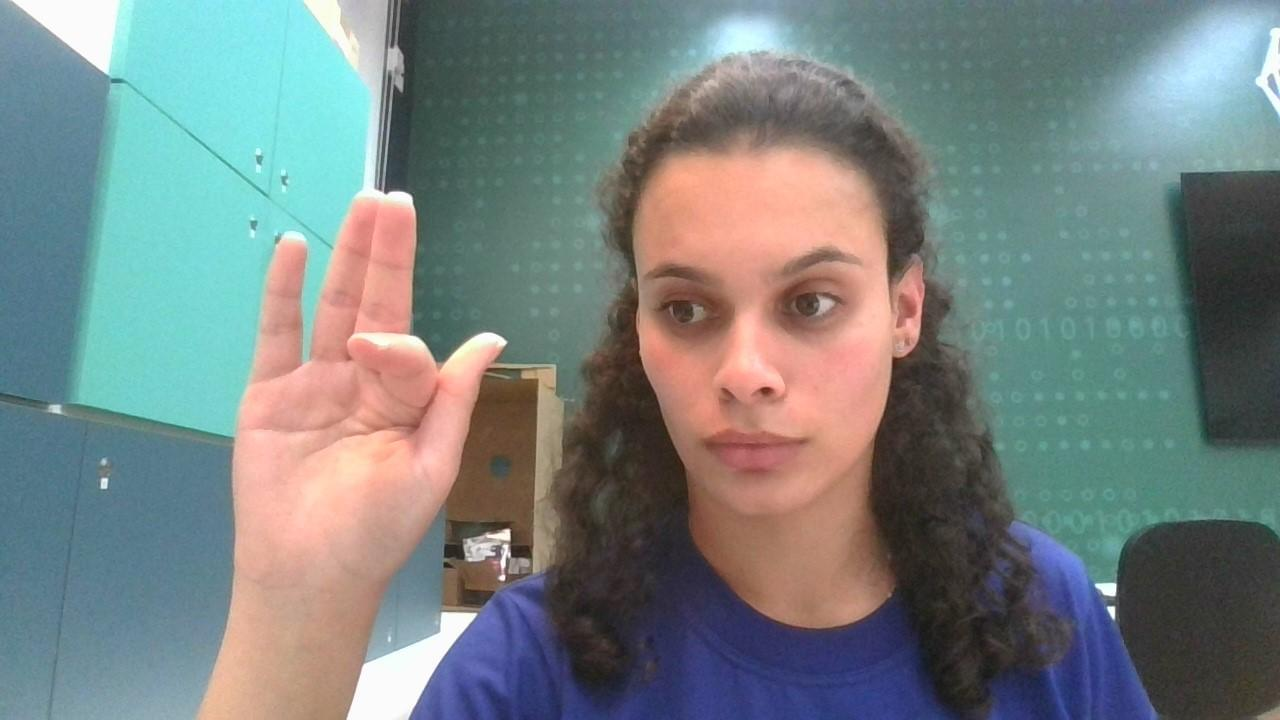F: (205, 153, 510, 642)
